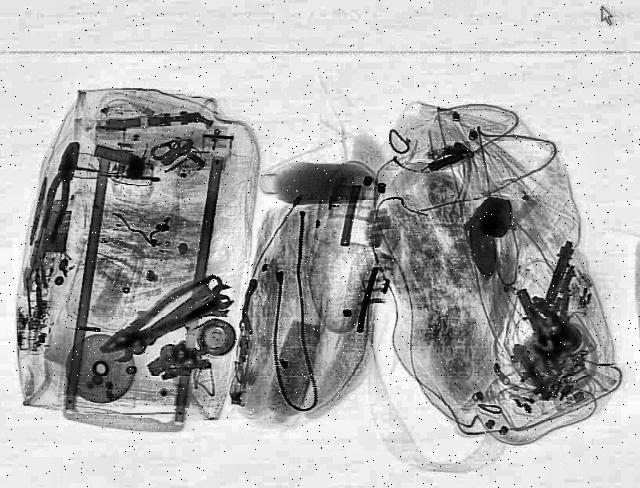Pliers: (88, 278, 222, 362), (35, 138, 87, 240)
Wrench: (102, 272, 230, 364)
